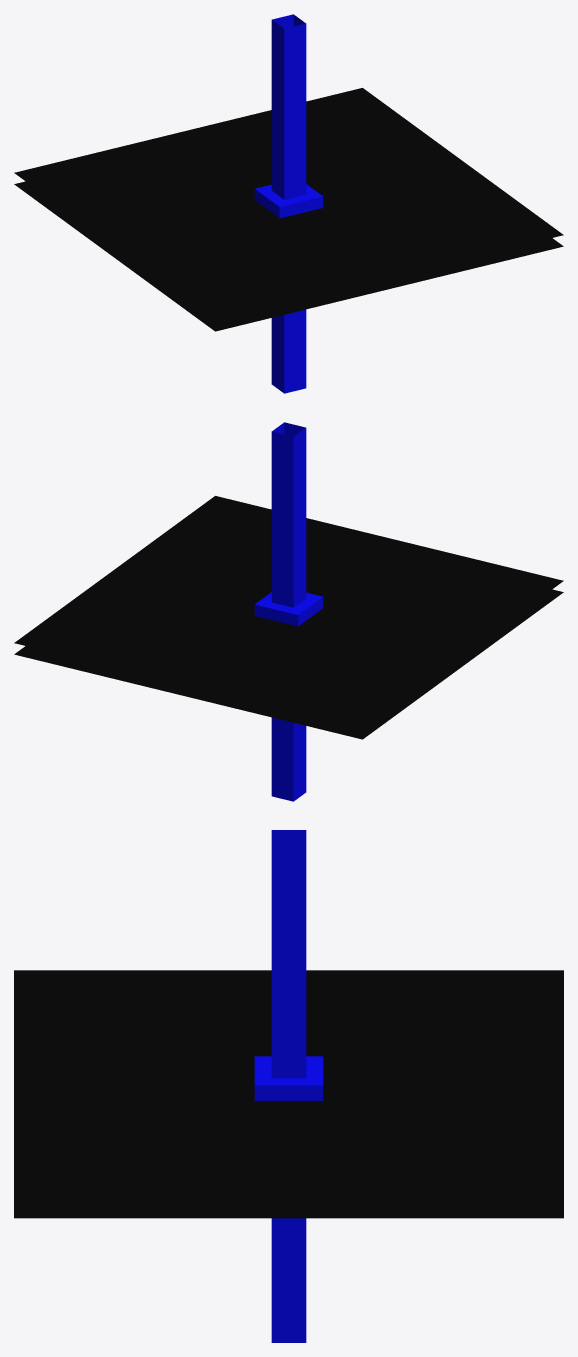
Rendered from BigStrut_P_P_E_E_P_P_E_E_BigStrut.fbx.
3 renders of one model, top to bottom at view 1: azimuth 30°, elevation 25°; view 2: azimuth 150°, elevation 25°; view 3: azimuth 270°, elevation 25°, orthographic. The views are drawn at different scales.
Visible parts, largest first — view 1: BigStrut_P_P_E_E_P_P_E_E_BigStrut; view 2: BigStrut_P_P_E_E_P_P_E_E_BigStrut; view 3: BigStrut_P_P_E_E_P_P_E_E_BigStrut.
Part boxes in pixels (left/top/right/bottom): BigStrut_P_P_E_E_P_P_E_E_BigStrut: left=14, top=14, right=563, bottom=393; BigStrut_P_P_E_E_P_P_E_E_BigStrut: left=14, top=422, right=563, bottom=801; BigStrut_P_P_E_E_P_P_E_E_BigStrut: left=14, top=830, right=563, bottom=1342.
Bounding box in the file's own units: 100 × 100 × 100.
